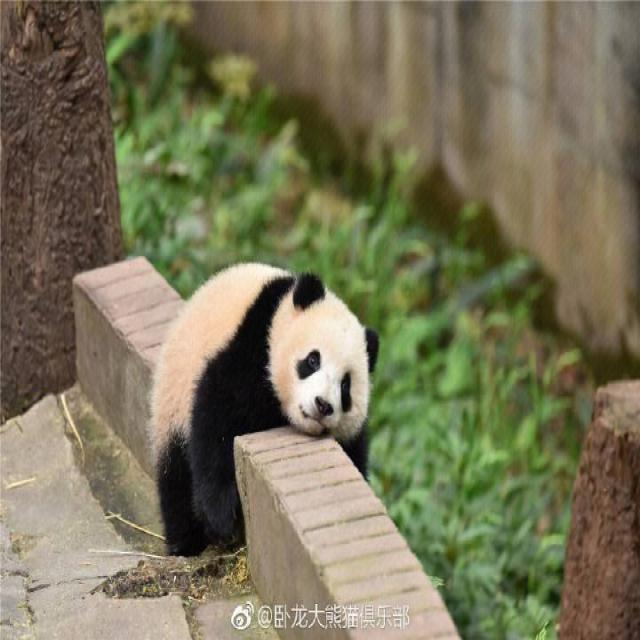panda: (124, 221, 414, 558)
